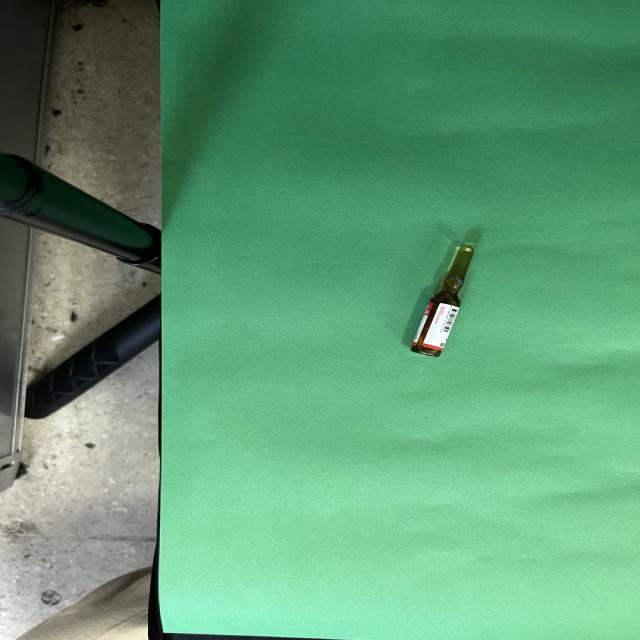Ampoules: (411, 244, 474, 357)
